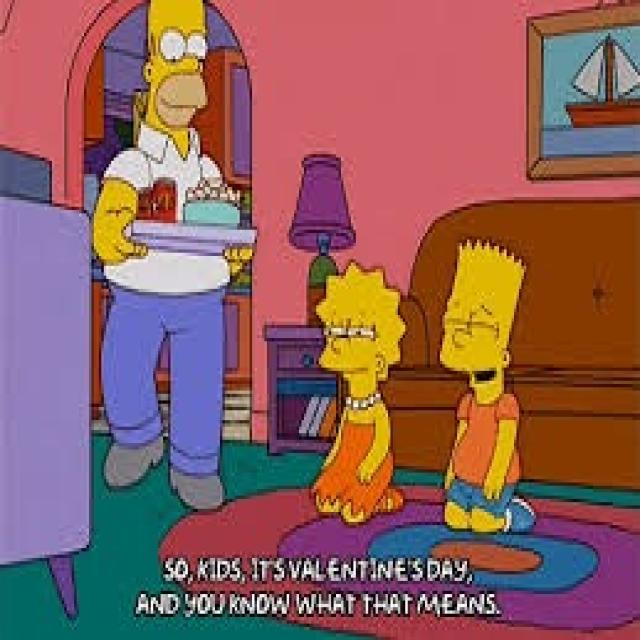Bart Simpson: (432, 235, 532, 415)
Homer Simpson: (131, 2, 215, 149)
Lisa Simpson: (305, 254, 412, 422)
